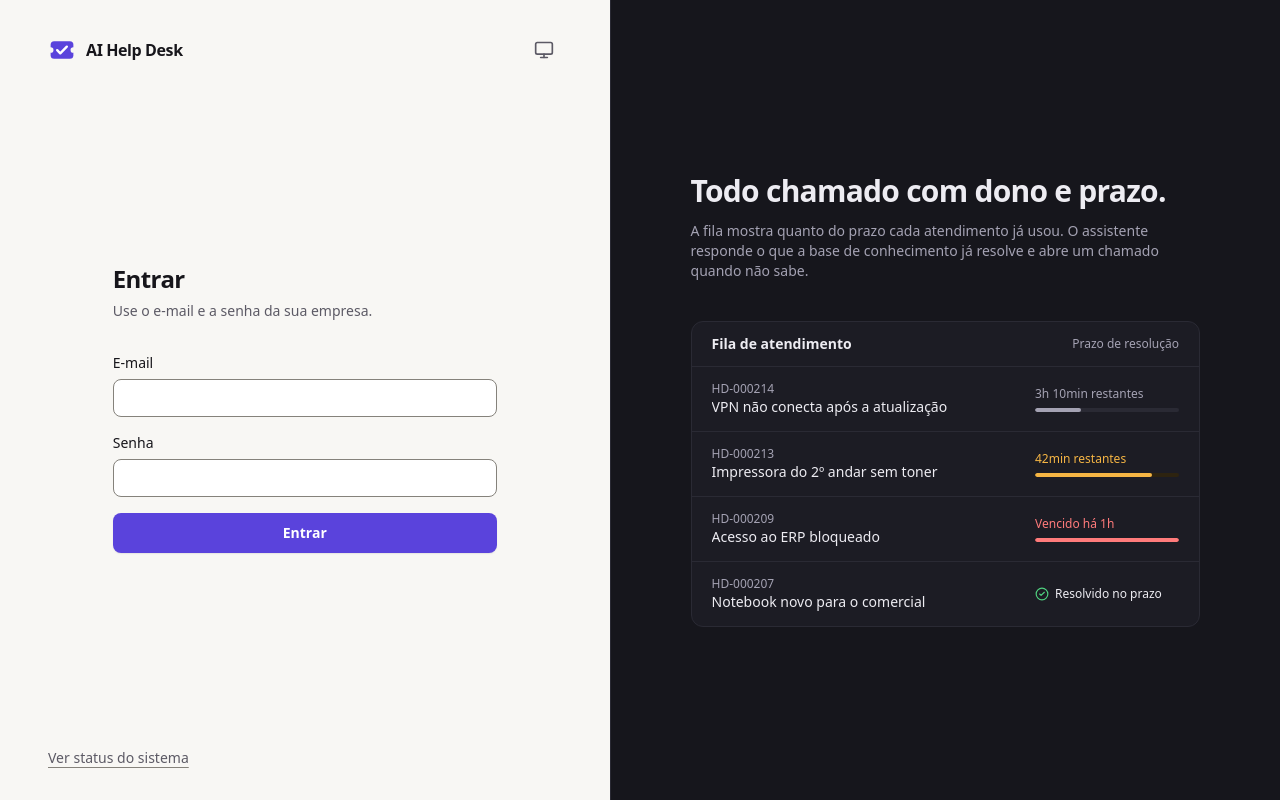
Test: LoginPage › recusa e-mail inválido
Type "não-é-email" into the field labelled "E-mail". click: (305, 398)
box: [113,379,497,417]
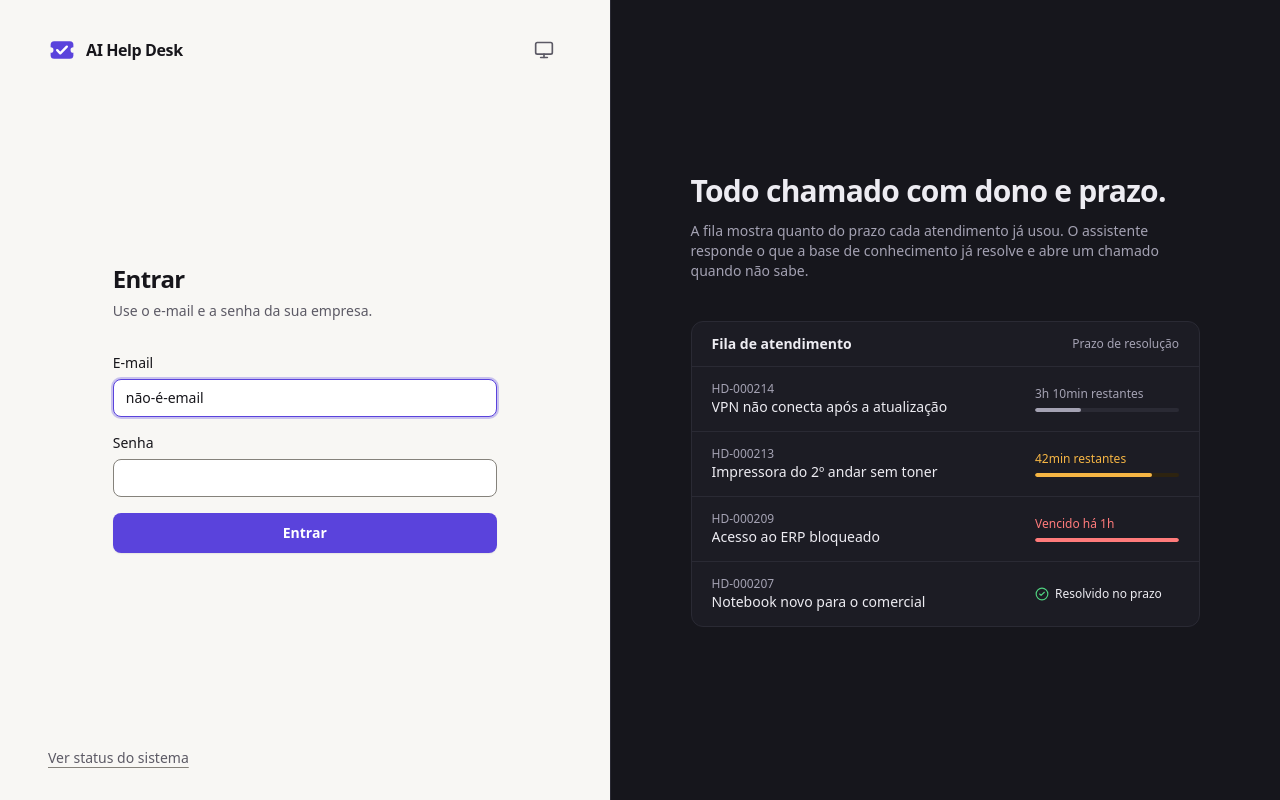
Type "senha-secreta" into the password field labelled "Senha". click: (305, 478)
box: [113,459,497,497]
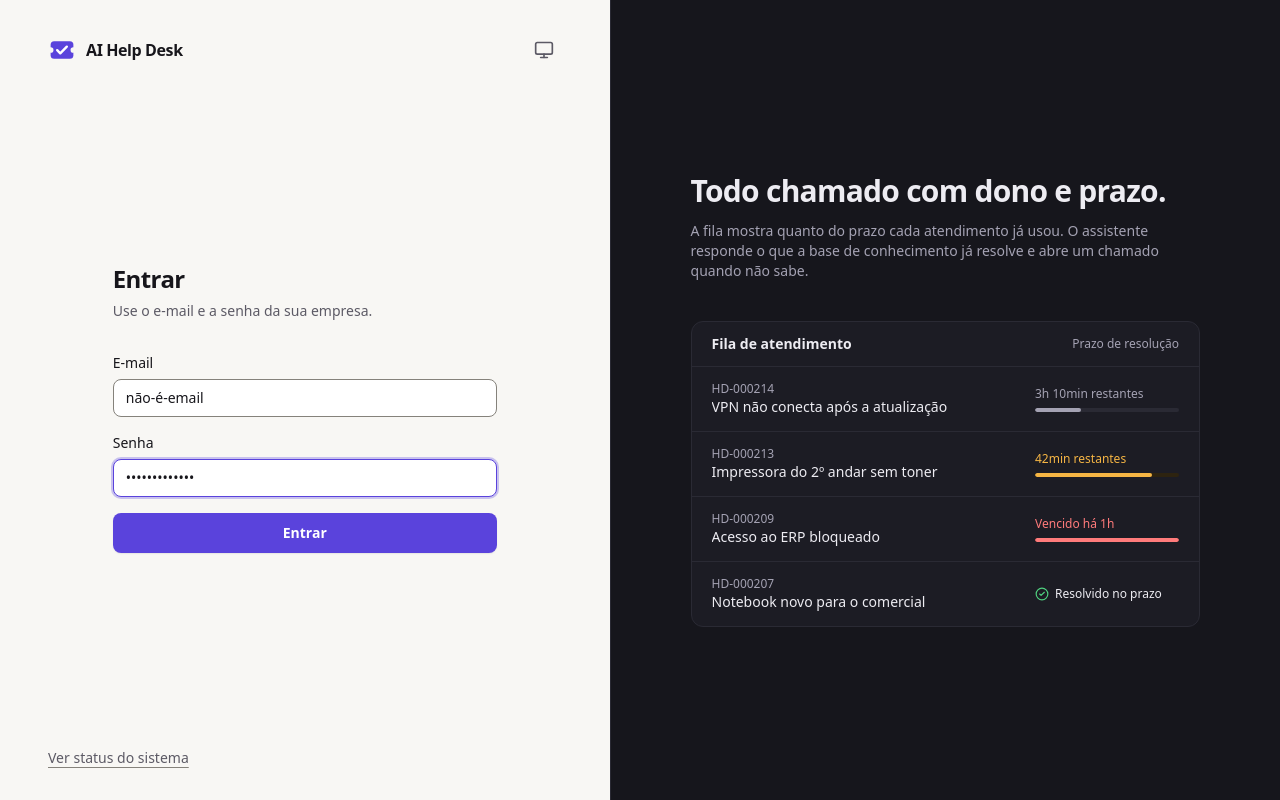
Click the button "Entrar". click: (305, 533)
box: [113,513,497,553]
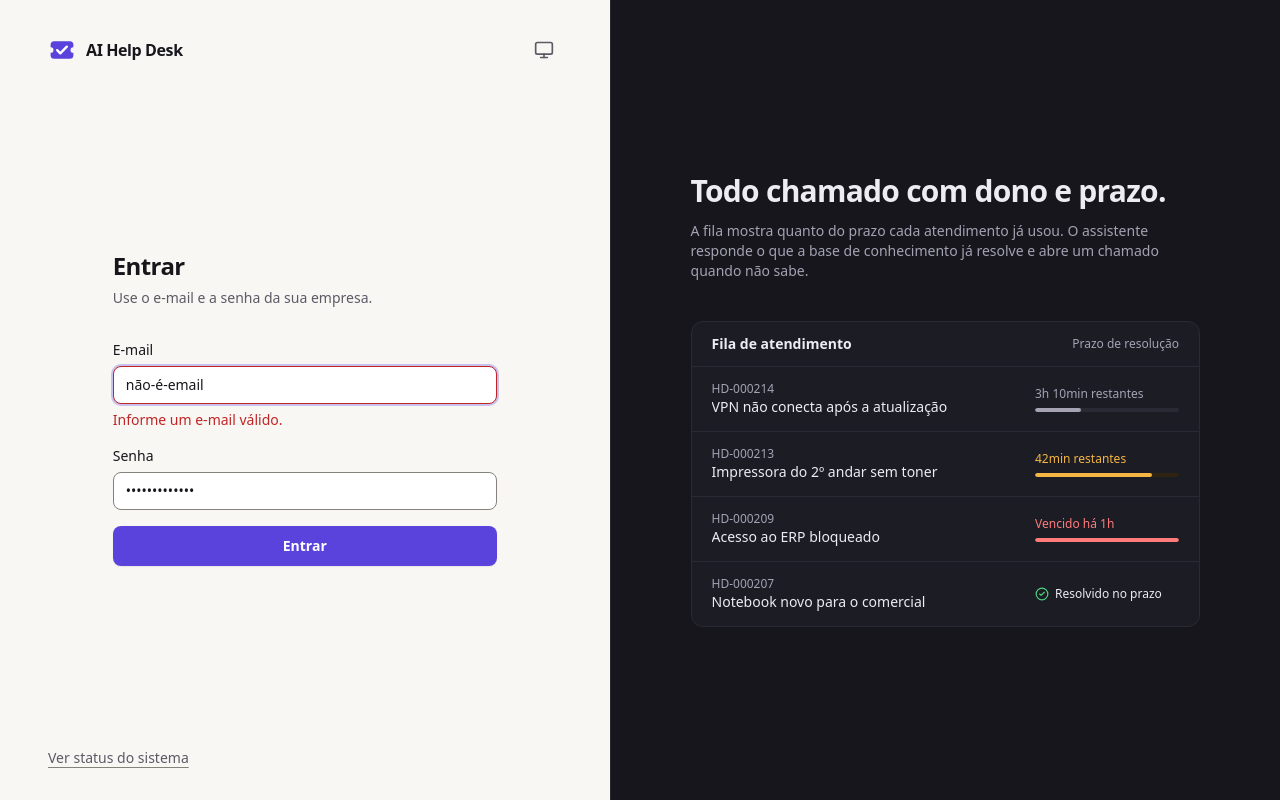
expect the text "Informe um e-mail válido." is shown: met, box [113,410,282,429]
